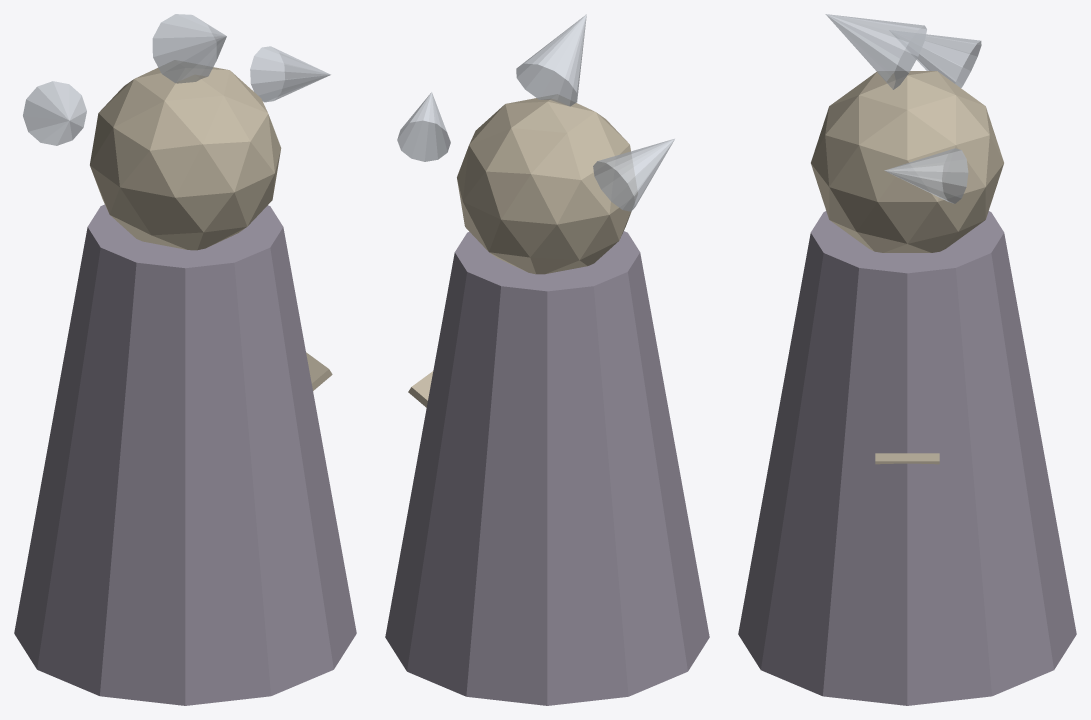
Rendered from requiem-choir.glb.
The picture shows the model from 3 angles, left to right: view 1: azimuth 30°, elevation 25°; view 2: azimuth 150°, elevation 25°; view 3: azimuth 270°, elevation 25°; orthographic projection. The views are drawn at different scales.
Visible parts, largest first — view 1: choir-veil-outer, choir-head, choir-halo-shard-2, choir-halo-shard-0, choir-halo-shard-1; view 2: choir-veil-outer, choir-head, choir-halo-shard-2, choir-halo-shard-0, choir-halo-shard-1; view 3: choir-veil-outer, choir-head, choir-halo-shard-2, choir-halo-shard-0, choir-halo-shard-1, choir-songbook.
Boxes of the visible parts, box(x1,y1,x2,y2) form: choir-veil-outer: box(14, 204, 356, 705); choir-head: box(90, 60, 281, 250); choir-halo-shard-2: box(152, 14, 226, 83); choir-halo-shard-0: box(23, 81, 86, 145); choir-halo-shard-1: box(250, 46, 330, 102); choir-veil-outer: box(385, 231, 709, 705); choir-head: box(457, 94, 637, 274); choir-halo-shard-2: box(516, 14, 586, 106); choir-halo-shard-0: box(593, 138, 674, 211); choir-halo-shard-1: box(397, 92, 450, 161); choir-veil-outer: box(738, 211, 1076, 705); choir-head: box(811, 71, 1003, 252); choir-halo-shard-2: box(825, 14, 926, 89); choir-halo-shard-0: box(891, 31, 981, 87); choir-halo-shard-1: box(884, 148, 968, 203); choir-songbook: box(875, 453, 939, 464).
Bounding box in the file's own units: 0.84 × 1.7 × 0.84.
